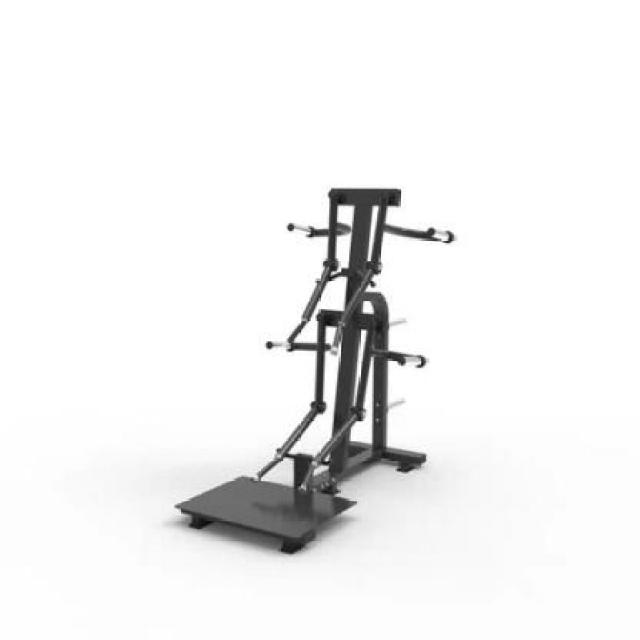lateral raises machine: (177, 189, 458, 554)
